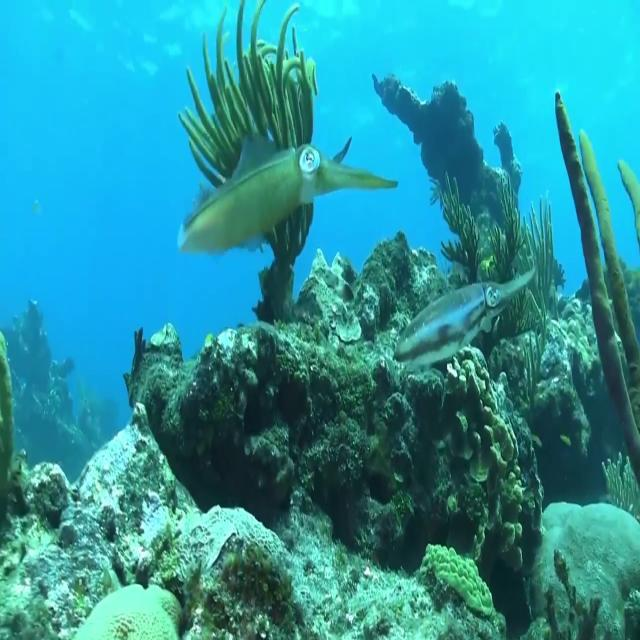squid: (178, 132, 399, 256), (393, 268, 538, 362)
